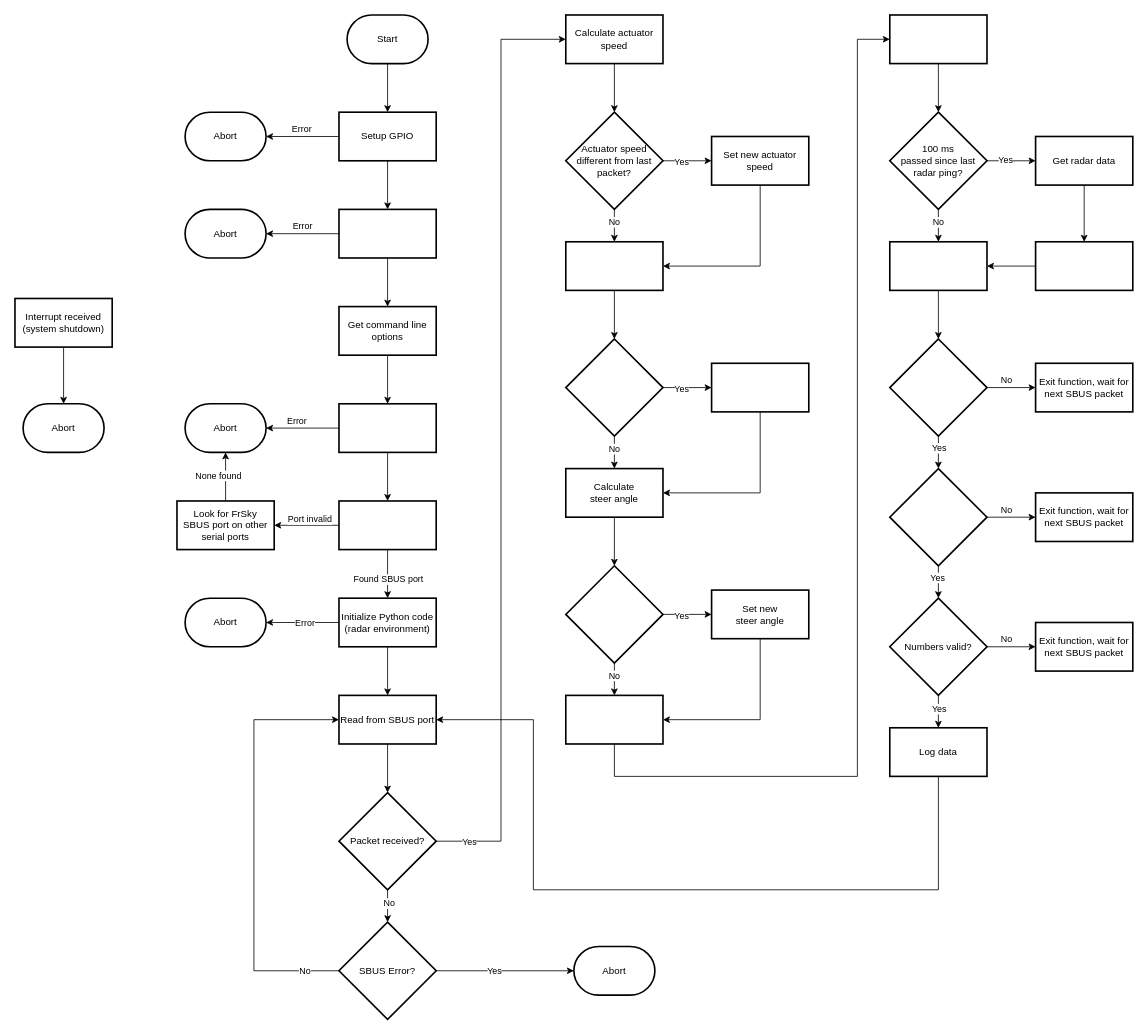
The diagram is 1147 pixels wide and 1034 high, and some of its shapes have lost their labels. Each missing label, with the box of its shape:
At least 1 line received?: (889, 467, 987, 566)
Calculate wheel speed: (565, 241, 663, 291)
Enough data received?: (889, 338, 987, 437)
Initialize PCA PWM driver: (338, 208, 437, 258)
Initialize SBUS driver: (338, 500, 437, 550)
Open log file: (338, 403, 437, 453)
Read from Arduino Serial: (889, 241, 987, 291)
Send radar data to remote: (1034, 241, 1133, 291)
Set actuator/drill direction: (889, 14, 987, 64)
Set new wheel speed: (710, 362, 809, 412)
Set wheel direction: (565, 694, 663, 744)
Steer angle different from last packet?: (565, 565, 663, 663)
Wheel speed different from last packet?: (565, 338, 663, 437)
